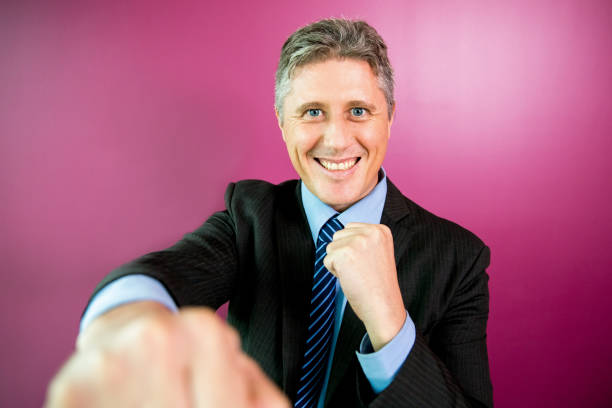Yes: (325, 219, 397, 292)
